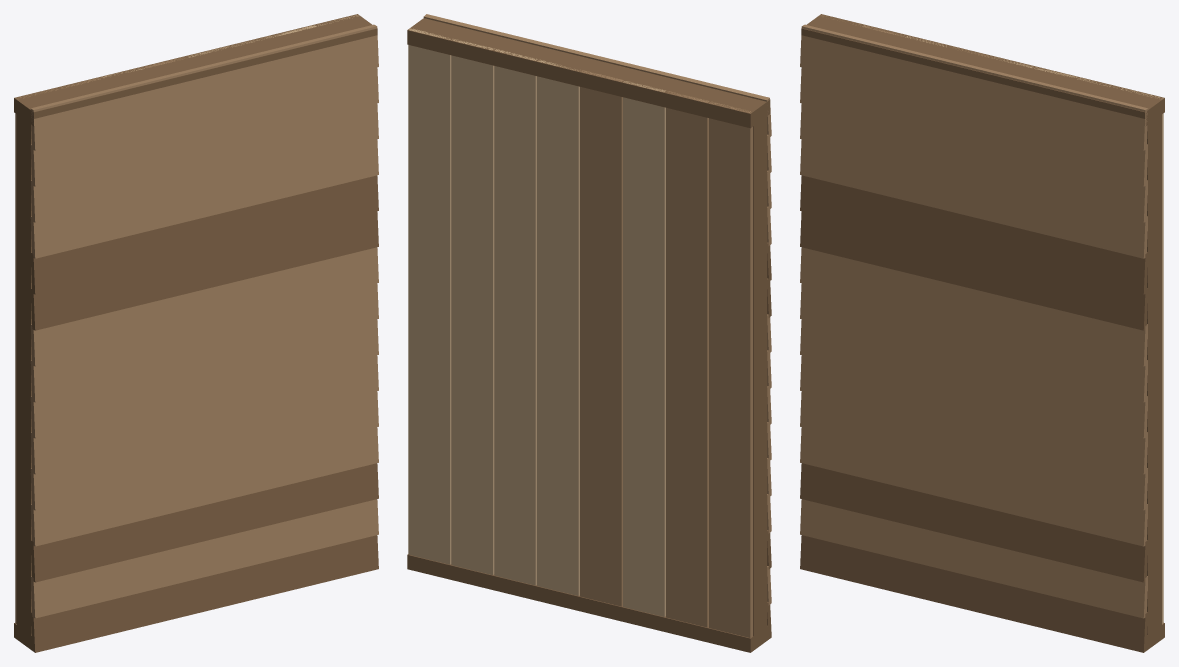
Rendered from SM_Wall_Plank.glb.
The picture shows the model from 3 angles, left to right: view 1: azimuth 30°, elevation 25°; view 2: azimuth 150°, elevation 25°; view 3: azimuth 330°, elevation 25°; orthographic projection.
Visible parts, largest first — view 1: SM_Wall_Plank; view 2: SM_Wall_Plank; view 3: SM_Wall_Plank.
Part boxes in pixels (box(x1,y1,x2,y2)): SM_Wall_Plank: box(14, 14, 378, 652); SM_Wall_Plank: box(407, 14, 771, 652); SM_Wall_Plank: box(800, 14, 1164, 652).
Size of the model in its own units: 2 by 3.01 by 0.2137.
